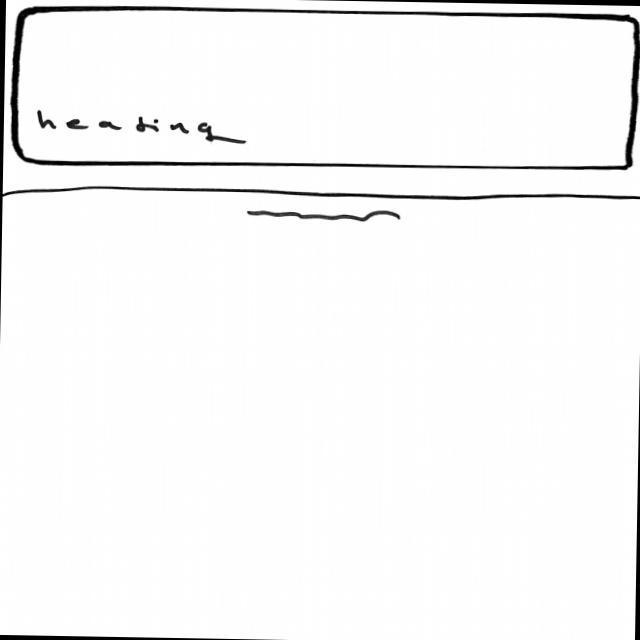container: (12, 2, 640, 175)
label: (34, 110, 251, 147)
text: (244, 206, 402, 225)
